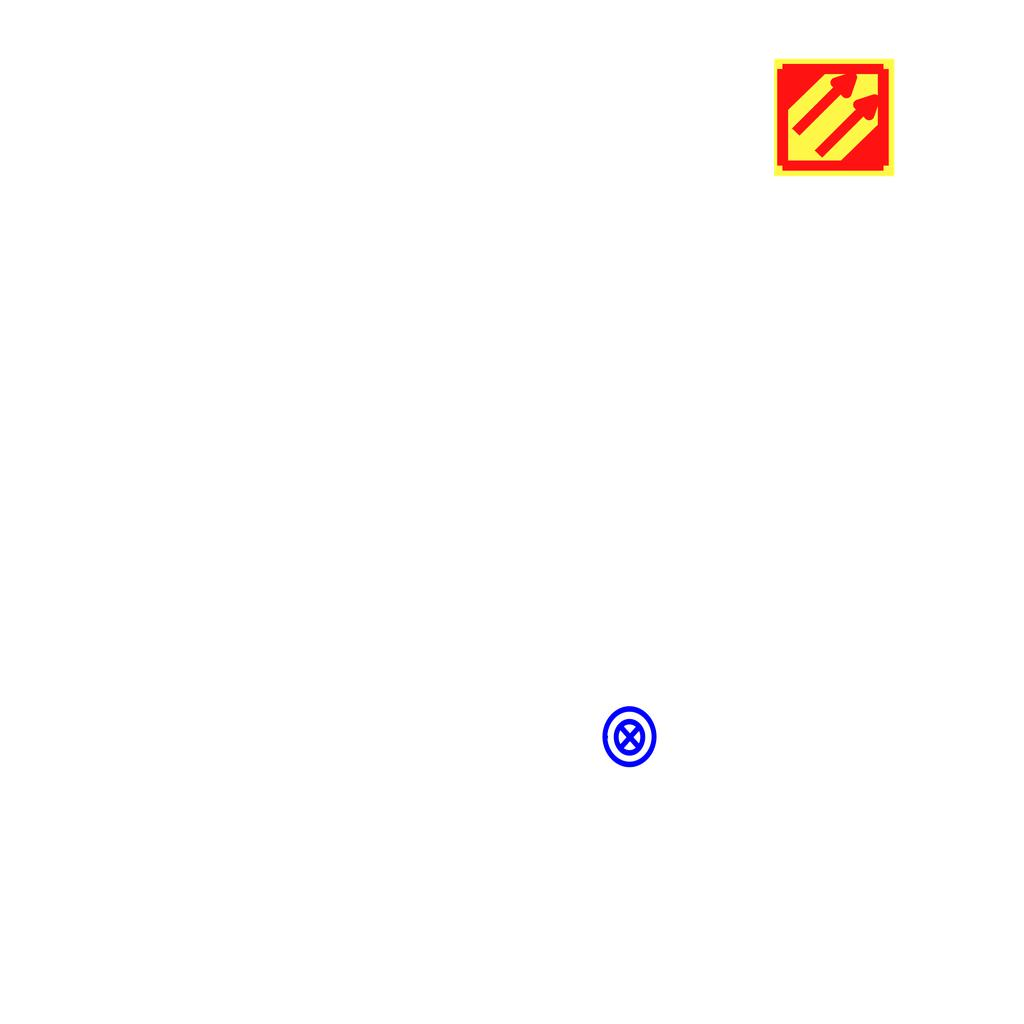ASR_Ansaugrauchmelder: (772, 55, 897, 180)
Taster_beleuchtet: (597, 704, 663, 770)
